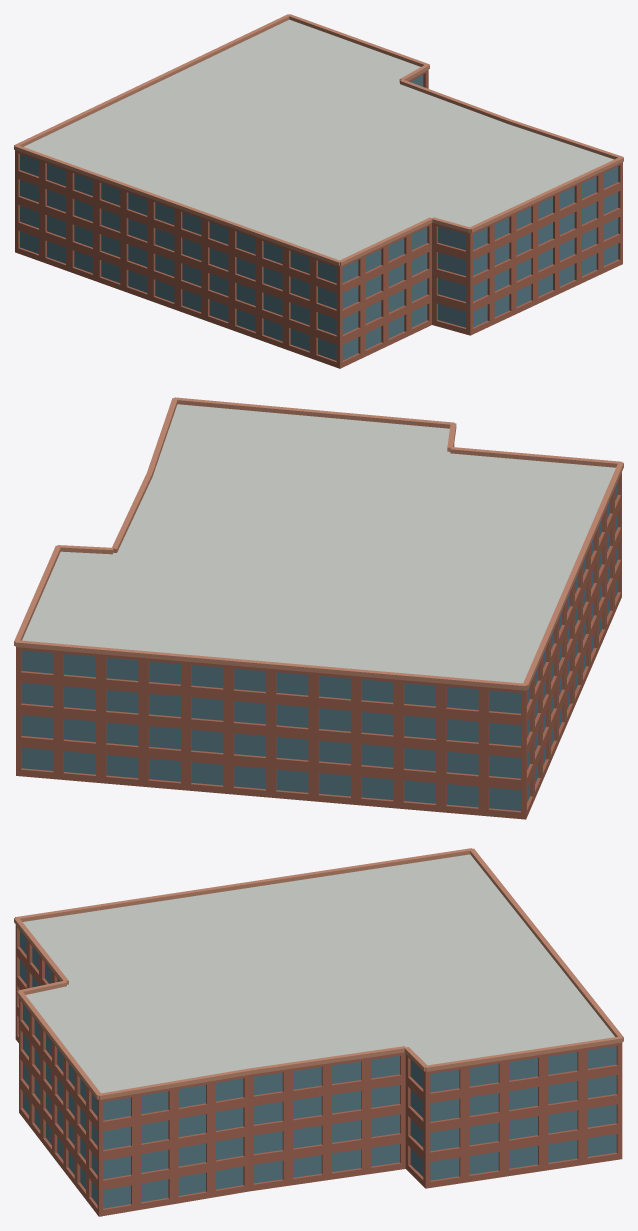
File: sb_586082989.far.glb
3 views of the same model, one above another, from view 1: azimuth 30°, elevation 25°; view 2: azimuth 150°, elevation 25°; view 3: azimuth 270°, elevation 25° (orthographic). The views are drawn at different scales.
Visible parts, largest first — view 1: roof, wall, glass, trim; view 2: roof, wall, glass, trim; view 3: roof, wall, glass, trim.
Boxes of the visible parts, x1,y1,x2,y2 form: roof: (24,19,613,260); wall: (15,69,622,368); glass: (20,74,618,360); trim: (14,14,623,265); roof: (22,404,615,683); wall: (16,444,621,819); glass: (21,482,617,810); trim: (14,397,623,690); roof: (23,854,614,1093); wall: (15,925,622,1216); glass: (20,931,616,1208); trim: (14,848,623,1099).
Size of the model in its own units: 57.05 by 13.04 by 59.32.
